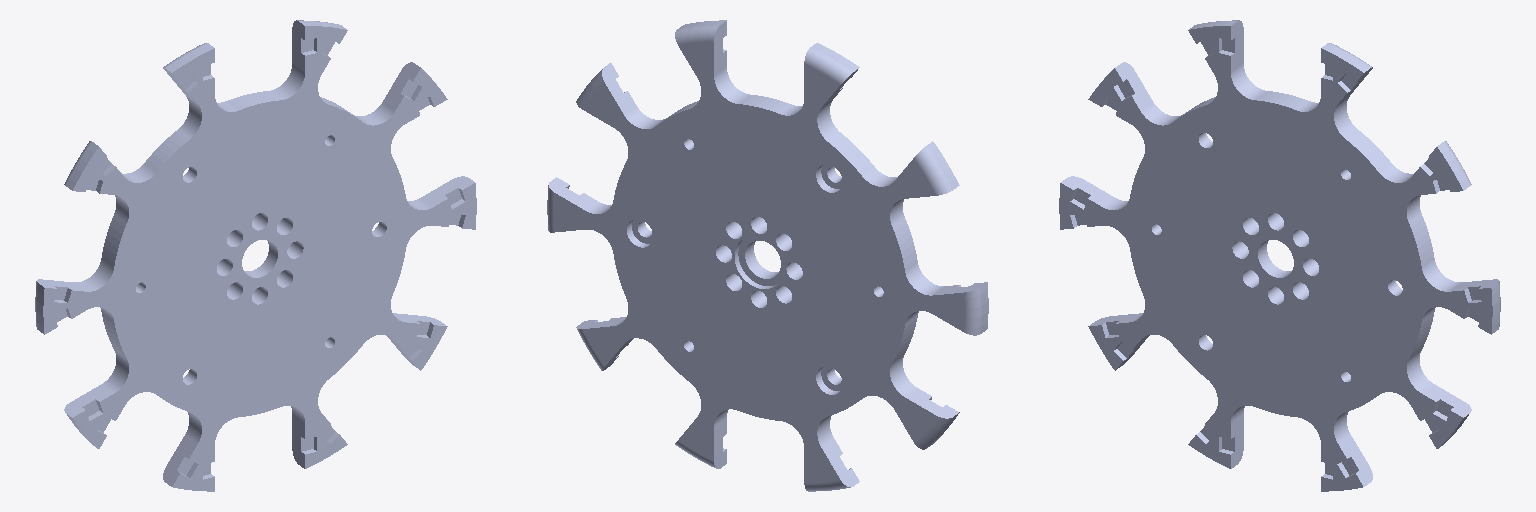
URDF robot description (abc_mesh_6_scale_8):
<?xml version="1.0" encoding="utf-8"?>
<!-- This URDF was automatically created by SolidWorks to URDF Exporter! Originally created by [author] ([email redacted]) 
     Commit Version: 1.5.1-0-g916b5db  Build Version: 1.5.7152.31018
     For more information, please see http://wiki.ros.org/sw_urdf_exporter -->
<robot
  name="abc_mesh_6_scale_8">
  <link
    name="abc_mesh_6_scale_8">
    <inertial>
      <origin
        xyz="0.0 0.0 -0.0"
        rpy="0 0 0" />
      <mass
        value="0.01" />
      <inertia
        ixx="0"
        ixy="-0"
        ixz="-0"
        iyy="0"
        iyz="-0"
        izz="0" />
    </inertial>
    <visual>
      <origin
        xyz="0 0 0"
        rpy="0 0 0" />
      <geometry>
        <mesh
          filename="package://ipa_kifz_data/test_dataset/meshes/abc_mesh_6_scale_8.STL" />
      </geometry>
      <material
        name="">
        <color
          rgba="0.79216 0.81961 0.93333 1" />
      </material>
    </visual>
    <collision>
      <origin
        xyz="0 0 0"
        rpy="0 0 0" />
      <geometry>
        <mesh
          filename="package://ipa_kifz_data/test_dataset/meshes/abc_mesh_6_scale_8.STL" />
      </geometry>
    </collision>
  </link>

  <!-- Turn of Gravity to fix workpiece at initial position-->
  <gazebo reference="abc_mesh_6_scale_8">
    <turnGravityOff>true</turnGravityOff>
    <static>true</static>
    <selfCollide>true</selfCollide>
    <material>Gazebo/Green</material>
  </gazebo>
</robot>

--- Facts derived from the render (not from the file) ---
3 views of the same robot in one strip: view 1: azimuth 30°, elevation 25°; view 2: azimuth 150°, elevation 25°; view 3: azimuth 330°, elevation 25° (orthographic).
Model abc_mesh_6_scale_8 with 1 links and 0 joints (none), rooted at abc_mesh_6_scale_8, posed all joints at 0.
Links seen in each view (by area): view 1: abc_mesh_6_scale_8; view 2: abc_mesh_6_scale_8; view 3: abc_mesh_6_scale_8.
Link boxes in pixels (<box>): abc_mesh_6_scale_8: <box>35,20,476,491</box>; abc_mesh_6_scale_8: <box>547,20,988,491</box>; abc_mesh_6_scale_8: <box>1059,20,1500,491</box>.
Size in the robot's own frame: 0.7838 by 0.04 by 0.7668 metres.
Meshes: 1 distinct files referenced, 1 mesh visuals loaded (1 binary STL).